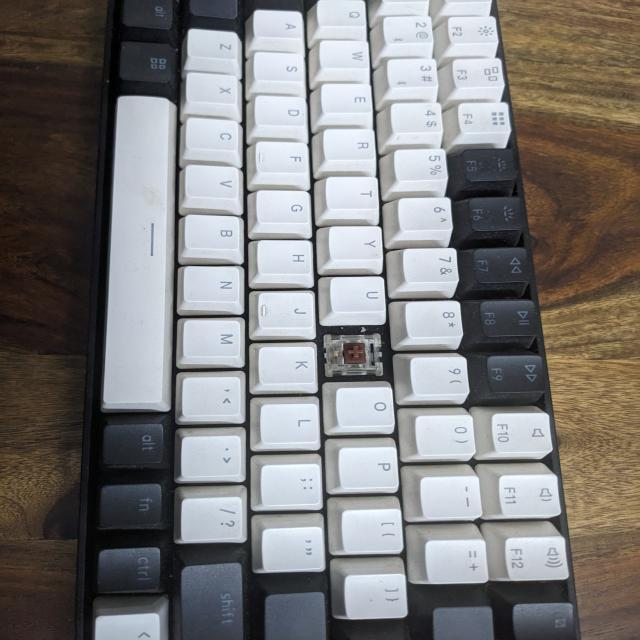key-switch: (322, 328, 389, 381)
